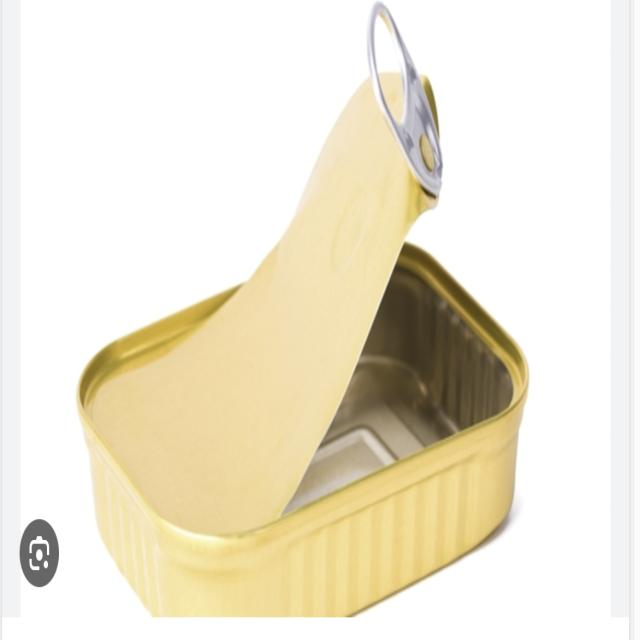recyclable: (71, 9, 569, 618)
